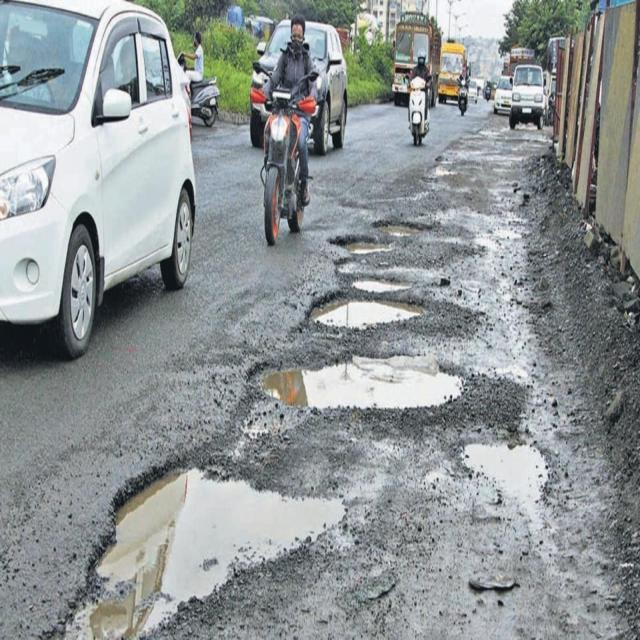road-pothole: (66, 445, 353, 639), (256, 346, 476, 421), (464, 434, 556, 517), (308, 282, 437, 329), (381, 219, 439, 240), (334, 231, 405, 248)
